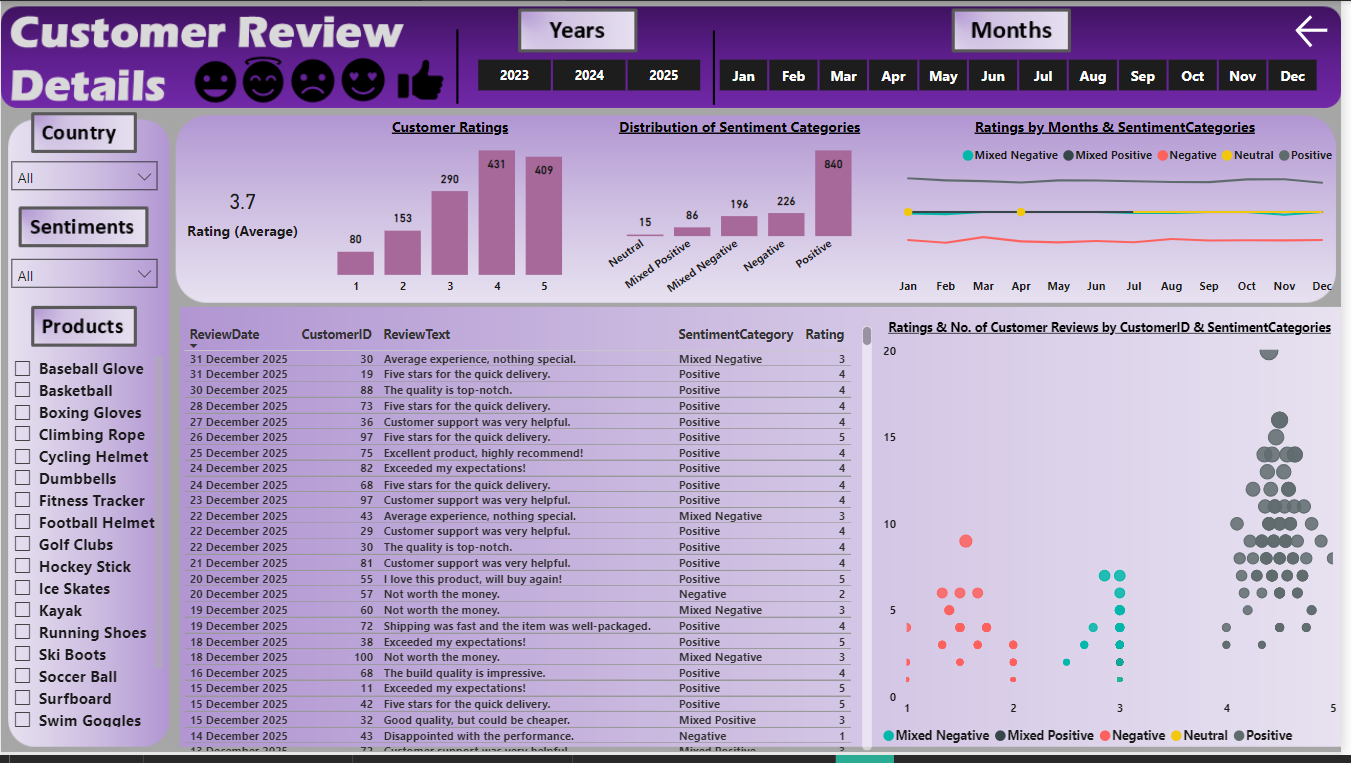

This screenshot's page, from the dashboard's own definition file:
{"tool":"powerbi","page":{"name":"Customer Review Details","canvas":[1280,720],"ordinal":3},"visuals":[{"type":"slicer","fields":{"Values":["dim_products.ProductName"]},"box":[0,333.4,159.4,364.3],"z":1000},{"type":"card","fields":{"Values":["_Calculations.Rating (Average)"]},"box":[169,111,122.6,178.9],"z":2000},{"type":"slicer","fields":{"Values":["Calendar.MonthNameShort"]},"box":[660.4,48.8,619.7,43.9],"z":3000},{"type":"lineChart","title":"Ratings by Months & SentimentCategories","fields":{"Category":["Calendar.MonthNameShort"],"Y":["_Calculations.Rating (Average)"],"Series":["fact_customer_reviews_with_sentiment.SentimentCategory"]},"box":[846.5,111,434,178.9],"z":4000},{"type":"slicer","fields":{"Values":["Calendar.Year"]},"box":[429.4,48.8,261.9,43.9],"z":5000},{"type":"tableEx","fields":{"Values":["fact_customer_reviews_with_sentiment.ReviewDate","fact_customer_reviews_with_sentiment.CustomerID","fact_customer_reviews_with_sentiment.ReviewText","fact_customer_reviews_with_sentiment.SentimentCategory","fact_customer_reviews_with_sentiment.Rating"]},"box":[169,304.8,667.6,415.8],"z":6000},{"type":"columnChart","title":"Customer Ratings","fields":{"Category":["fact_customer_reviews_with_sentiment.Rating"],"Y":["_Calculations.Number of Customer Reviews"]},"box":[298.2,111,261.7,178.9],"z":7000},{"type":"columnChart","title":"Distribution of Sentiment Categories","fields":{"Category":["fact_customer_reviews_with_sentiment.SentimentCategory"],"Y":["_Calculations.Number of Customer Reviews"]},"box":[574.8,111,261.7,178.9],"z":8000},{"type":"slicer","fields":{"Values":["dim_customers.Country"]},"box":[0,143.1,159.4,45.5],"z":9000},{"type":"slicer","fields":{"Values":["fact_customer_reviews_with_sentiment.SentimentCategory"]},"box":[0,235.8,159.4,53.7],"z":10000},{"type":"scatterChart","title":"Ratings & No. of Customer Reviews by CustomerID & SentimentCategories","fields":{"Category":["dim_customers.CustomerID"],"Series":["fact_customer_reviews_with_sentiment.SentimentCategory"],"X":["_Calculations.Rating (Average)"],"Y":["_Calculations.Number of Customer Reviews"],"Size":["_Calculations.Number of Customer Reviews"]},"box":[836,304.2,444,416.4],"z":11000},{"type":"actionButton","box":[1231.3,8.1,48.8,40.7],"z":11001}]}

Visuals, with their boxes in screenshot pixels (x1, y1, x2, y2), scaled from the page's 1280x720 canvas onto the 1351x763 screenshot:
slicer - dim_products.ProductName: <box>0,353,168,739</box>
card - _Calculations.Rating (Average): <box>178,118,308,307</box>
slicer - Calendar.MonthNameShort: <box>697,52,1350,98</box>
"Ratings by Months & SentimentCategories" lineChart: <box>893,118,1350,307</box>
slicer - Calendar.Year: <box>453,52,730,98</box>
tableEx - fact_customer_reviews_with_sentiment.ReviewDate x fact_customer_reviews_with_sentiment.CustomerID: <box>178,323,883,762</box>
"Customer Ratings" columnChart: <box>315,118,591,307</box>
"Distribution of Sentiment Categories" columnChart: <box>607,118,883,307</box>
slicer - dim_customers.Country: <box>0,152,168,200</box>
slicer - fact_customer_reviews_with_sentiment.SentimentCategory: <box>0,250,168,307</box>
"Ratings & No. of Customer Reviews by CustomerID & SentimentCategories" scatterChart: <box>882,322,1350,762</box>
actionButton: <box>1300,9,1350,52</box>
